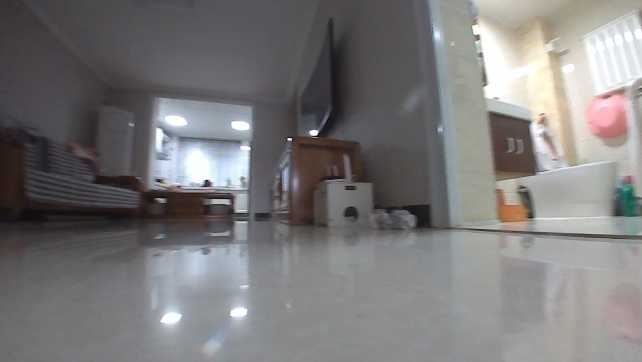sofa: (1, 114, 140, 220)
toilet: (521, 120, 614, 216)
